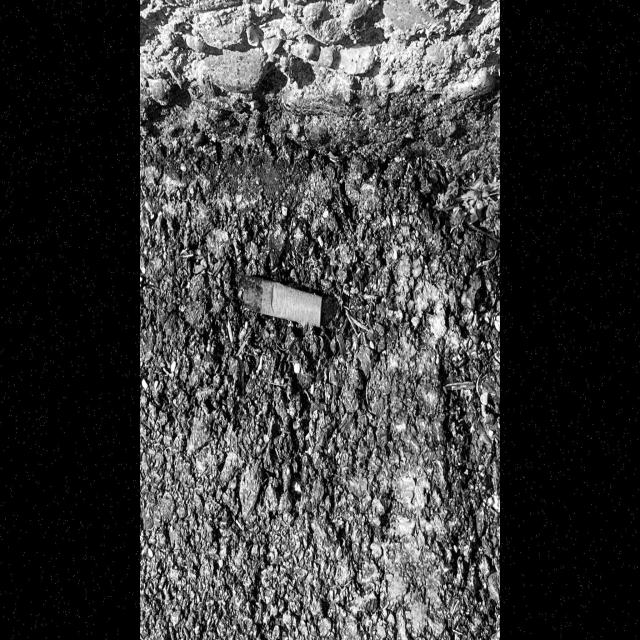other waste: (236, 273, 323, 328)
